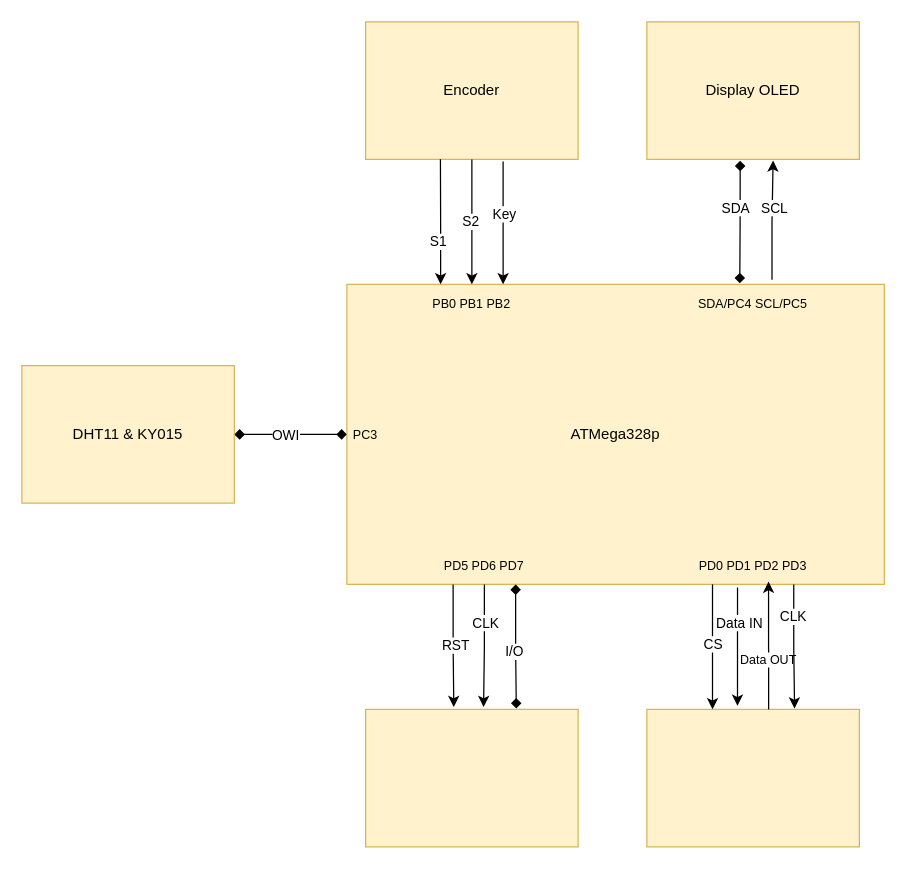
This 906x869 diagram has some shape labels left out. The centre of each missing label's shape, as x and y in pixels:
RTC: the point at 471,777
SD Card: the point at 752,777
